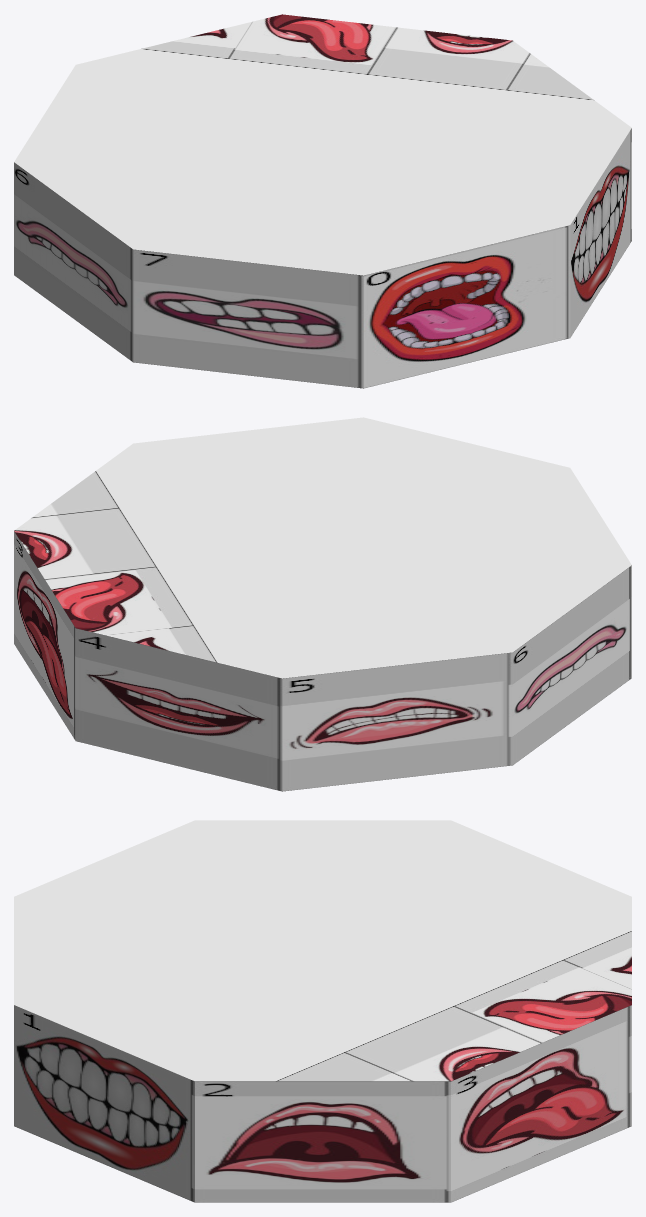
The model's file is mouths_rotor_n1.gltf.
3 renders of one model, top to bottom at view 1: azimuth 30°, elevation 25°; view 2: azimuth 150°, elevation 25°; view 3: azimuth 270°, elevation 25°, orthographic. The views are drawn at different scales.
Visible parts, largest first — view 1: rotor_n1.mouths; view 2: rotor_n1.mouths; view 3: rotor_n1.mouths.
Part boxes in pixels (x1,y1,x2,y2): rotor_n1.mouths: [14, 14, 631, 388]; rotor_n1.mouths: [14, 417, 631, 791]; rotor_n1.mouths: [14, 820, 631, 1202].
Bounding box in the file's own units: 1.85 × 0.4 × 1.85.
1 material, 1 textured.
